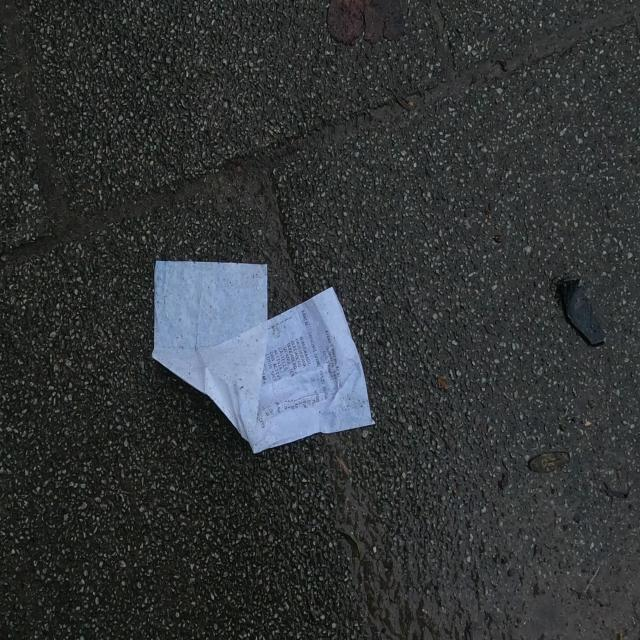Paper: (149, 254, 375, 458)
